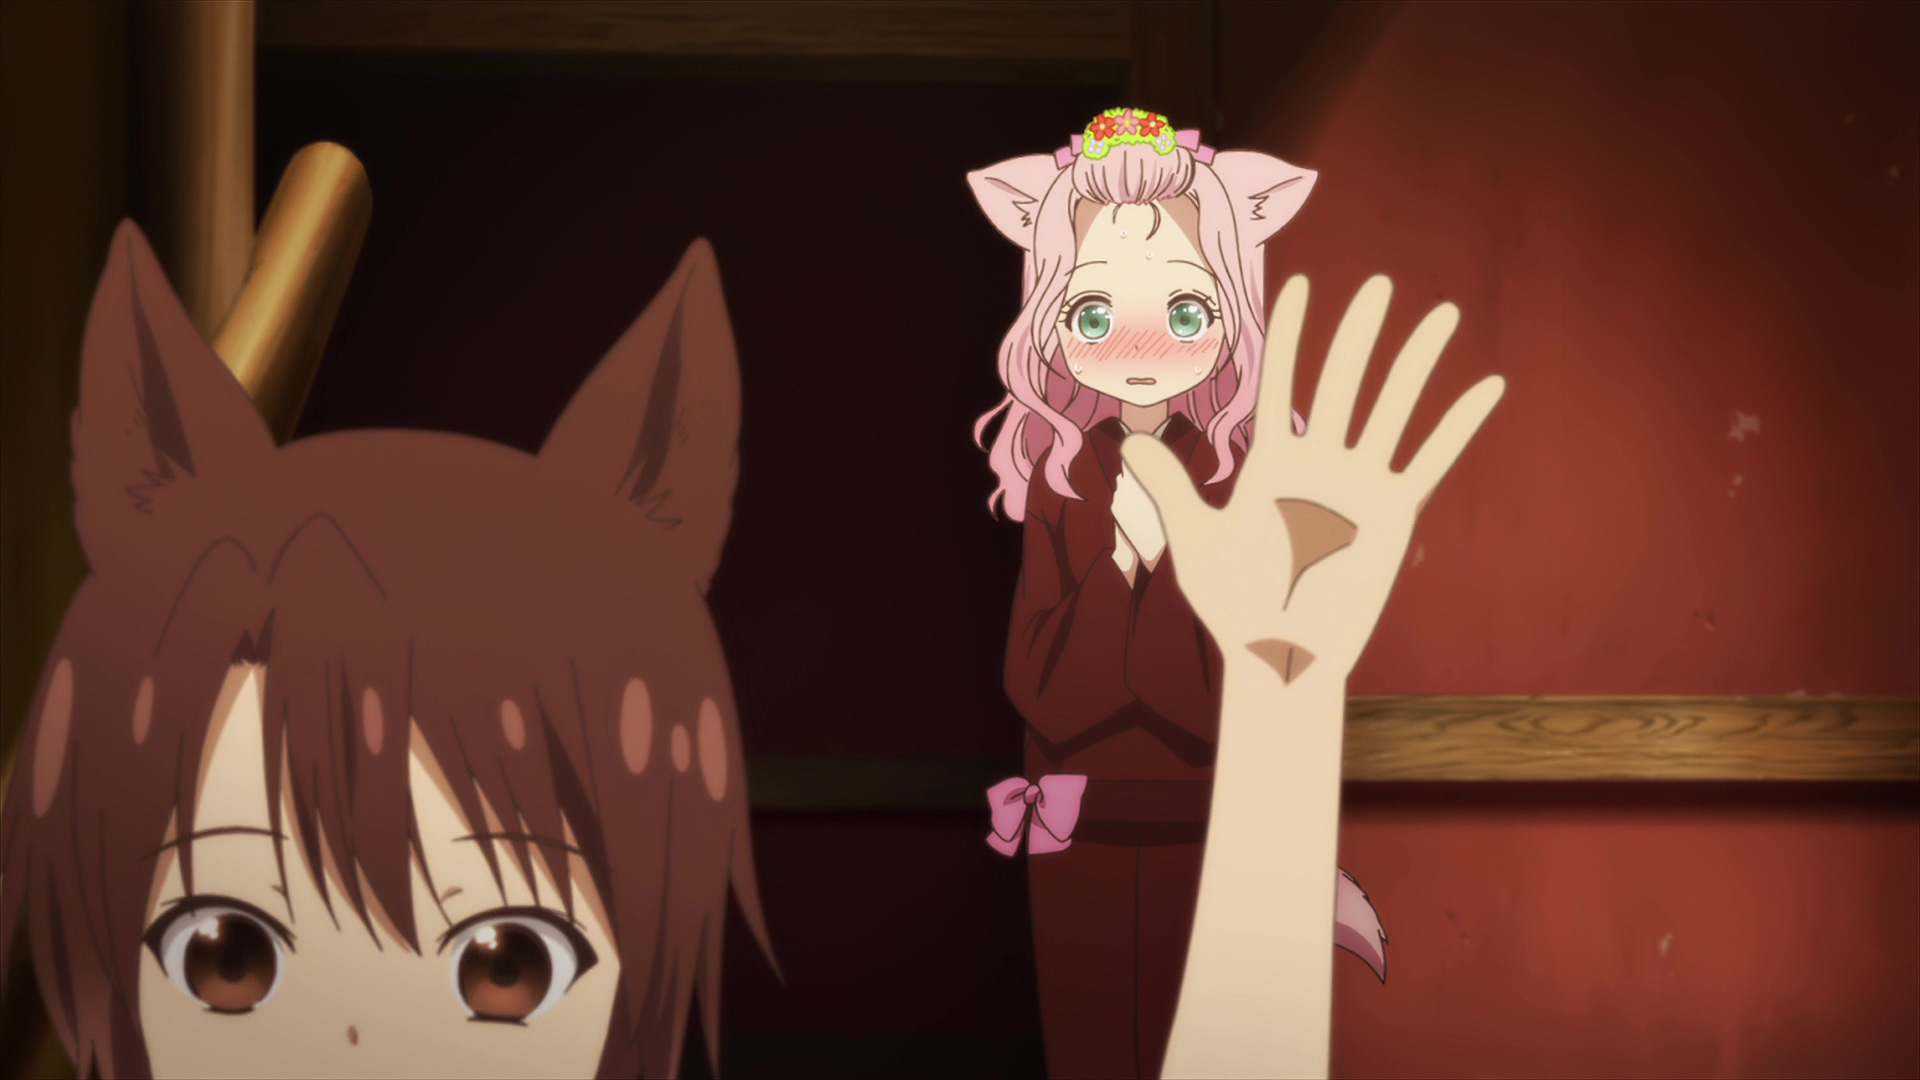枣: (1, 220, 770, 1080)
莲: (961, 102, 1389, 1080)
